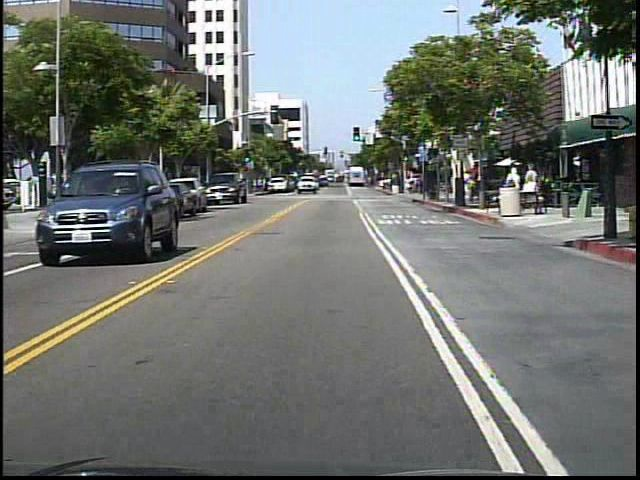person: (463, 172, 478, 206), (257, 173, 270, 199)
